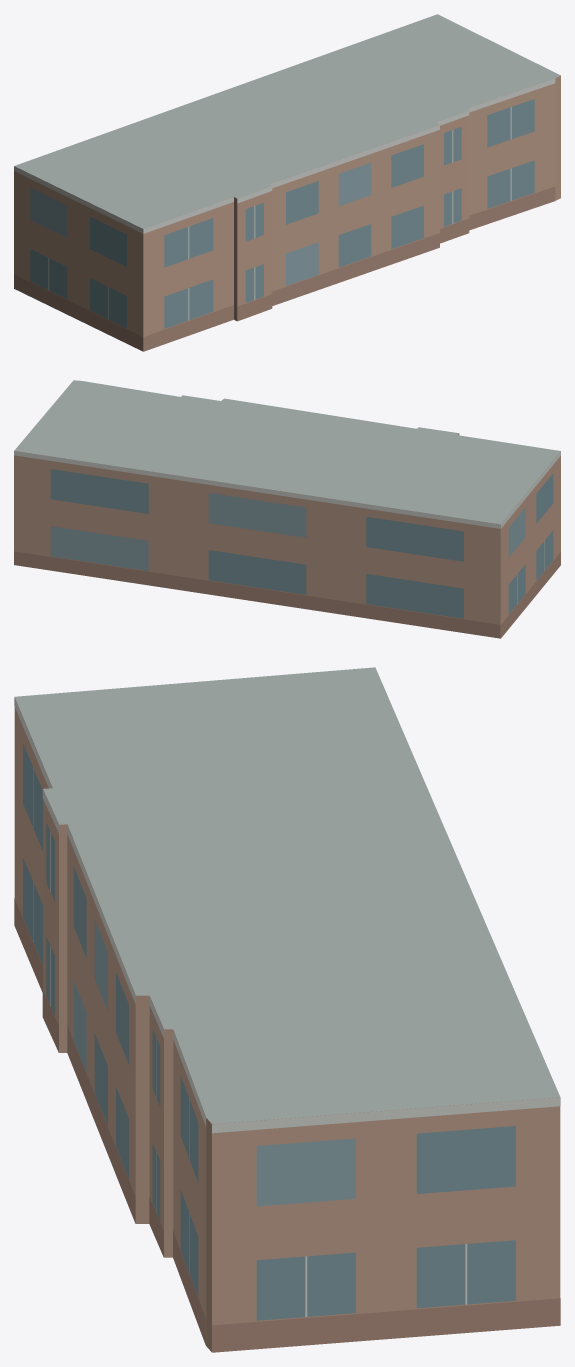
The model's file is survey-upis-32913633.glb.
3 renders of one model, top to bottom at view 1: azimuth 30°, elevation 25°; view 2: azimuth 150°, elevation 25°; view 3: azimuth 270°, elevation 25°, orthographic. The views are drawn at different scales.
Parts seen in each view (by area): view 1: survey-upis-32913633.tmp; view 2: survey-upis-32913633.tmp; view 3: survey-upis-32913633.tmp.
Boxes of the visible parts, bbox=[...] form: survey-upis-32913633.tmp: bbox=[14, 14, 560, 351]; survey-upis-32913633.tmp: bbox=[14, 380, 560, 638]; survey-upis-32913633.tmp: bbox=[14, 667, 560, 1352].
Size of the model in its own units: 26.17 by 6.1 by 13.22.
